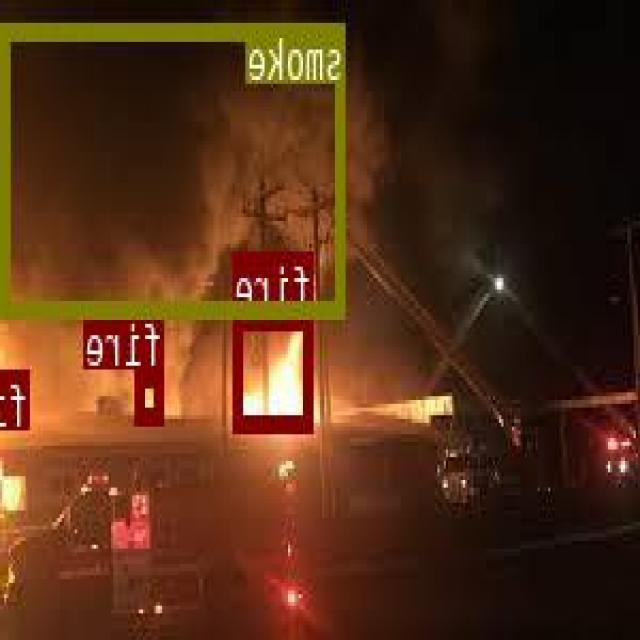fire: (237, 310, 316, 428), (137, 370, 165, 420), (4, 368, 30, 419)
smoke: (5, 21, 348, 312)
